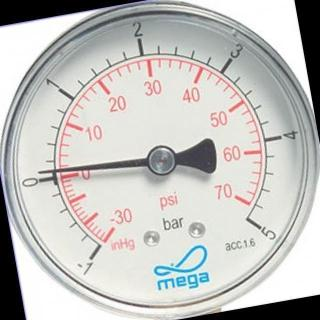gauge: (0, 0, 320, 320), (67, 225, 141, 283), (220, 196, 280, 254), (146, 144, 176, 176), (34, 166, 48, 178)
